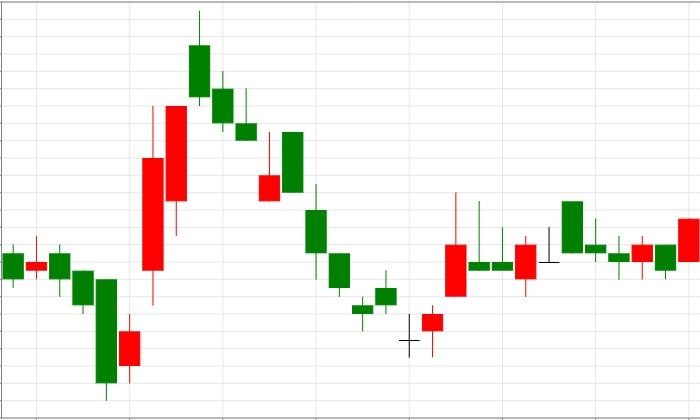bullish_engulfing_rise: (561, 201, 654, 280)
